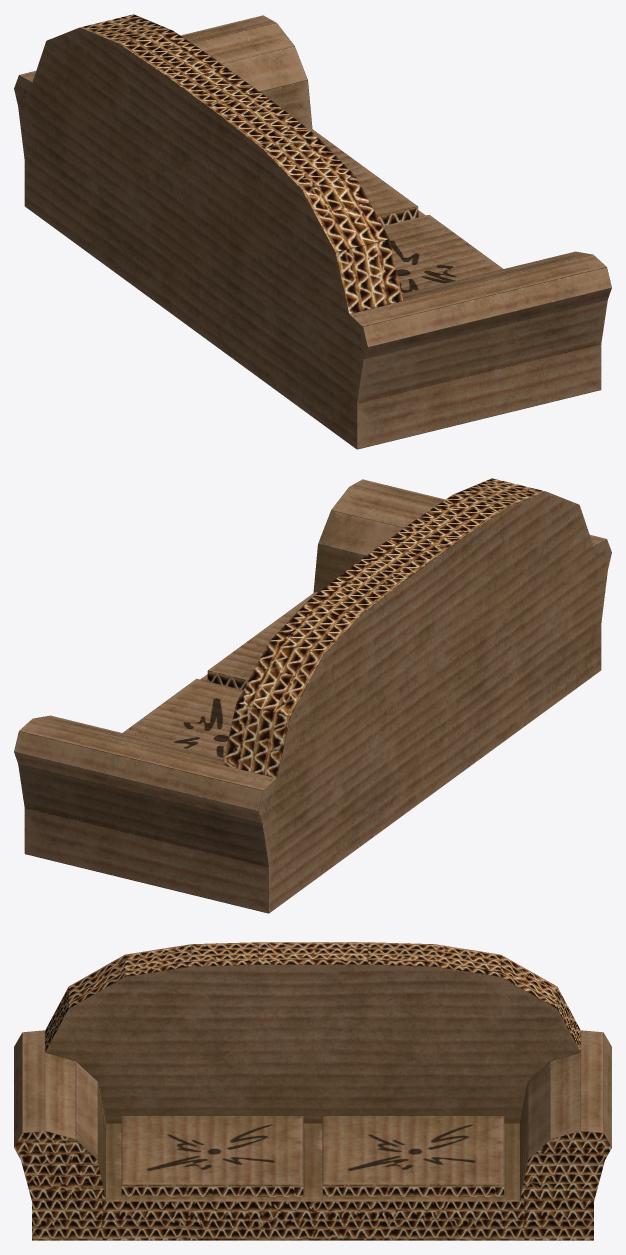
Rendered from sofa_02.fbx.
3 renders of one model, top to bottom at view 1: azimuth 30°, elevation 25°; view 2: azimuth 150°, elevation 25°; view 3: azimuth 270°, elevation 25°, orthographic. The views are drawn at different scales.
Parts seen in each view (by area): view 1: sofa_1; view 2: sofa_1; view 3: sofa_1.
Part boxes in pixels (x1,y1,x2,y2): sofa_1: (14, 14, 611, 449); sofa_1: (14, 478, 611, 913); sofa_1: (14, 942, 611, 1240).
Bounding box in the file's own units: 148 × 135 × 370.
Materials: 1 (1 with a texture image).
